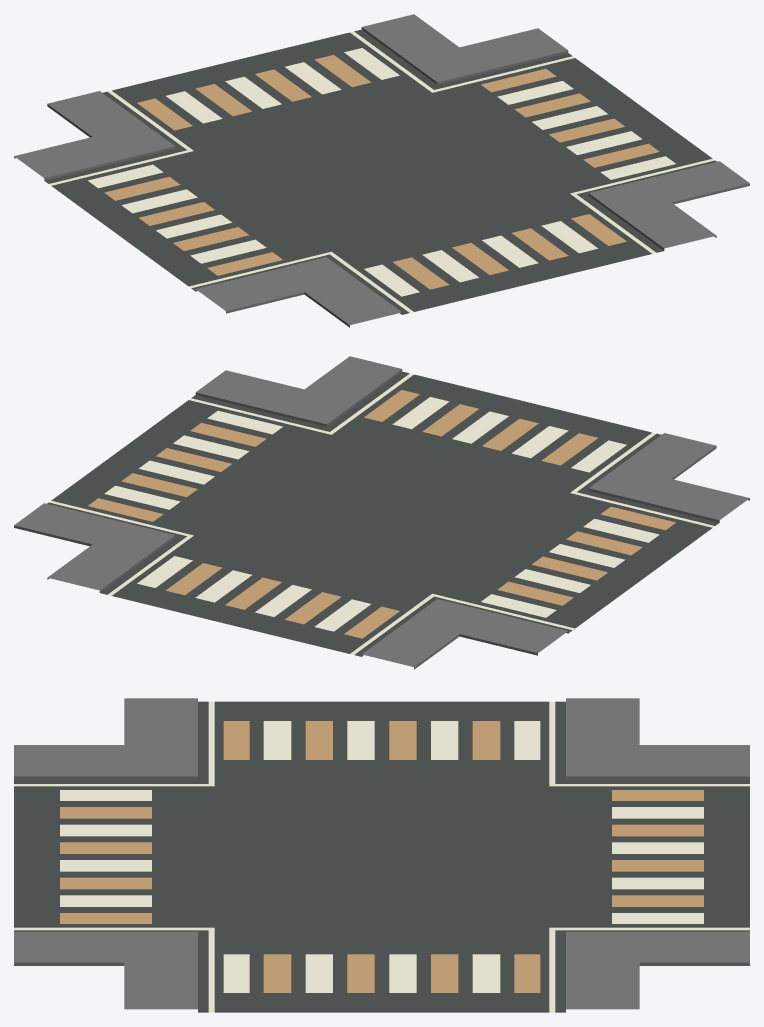
Rendered from Road_Crossroads_1.fbx.
The picture shows the model from 3 angles, top to bottom: view 1: azimuth 30°, elevation 25°; view 2: azimuth 150°, elevation 25°; view 3: azimuth 270°, elevation 25°; orthographic projection. The views are drawn at different scales.
Parts seen in each view (by area): view 1: Road_Crossroads_1; view 2: Road_Crossroads_1; view 3: Road_Crossroads_1.
Boxes of the visible parts, x1,y1,x2,y2 form: Road_Crossroads_1: (14,14,749,327); Road_Crossroads_1: (14,356,749,669); Road_Crossroads_1: (14,698,749,1012).
Size of the model in its own units: 42 by 0.1948 by 42.
Materials: 1 (1 with a texture image).
